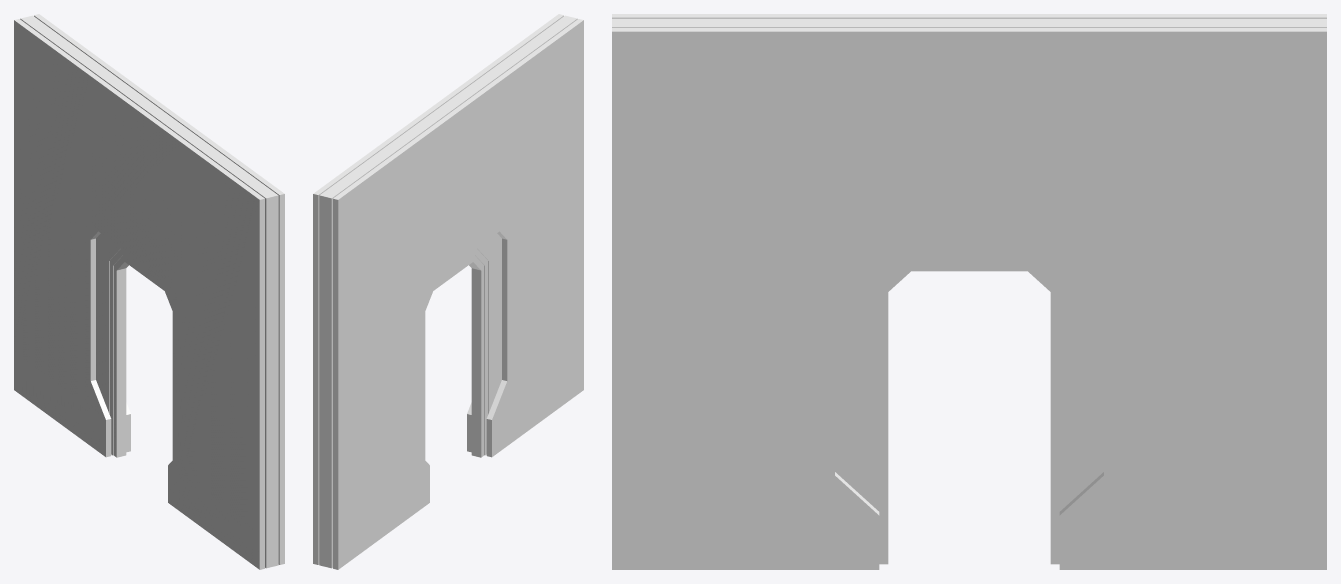
Rendered from white_door_frame.obj.
3 renders of one model, left to right at view 1: azimuth 30°, elevation 25°; view 2: azimuth 150°, elevation 25°; view 3: azimuth 270°, elevation 25°, orthographic. The views are drawn at different scales.
Parts seen in each view (by area): view 1: cube.016, cube.012, cube.010, cube.019, cube.009, cube.018, cube.014, cube.007, cube.021, cube.024, cube.020, cube.015 (+7 smaller); view 2: cube.012, cube.016, cube.010, cube.018, cube.009, cube.014, cube.019, cube.003, cube.027, cube.024, cube.015, cube.028 (+5 smaller); view 3: cube.003, cube.007, cube.000, cube.001, cube.005, cube.018, cube.019, cube.006, cube.024, cube.027, cube.021, cube.002 (+11 smaller).
Boxes of the visible parts, x1,y1,x2,y2 form: cube.016: (183,142,264,532); cube.012: (14,19,95,408); cube.010: (90,75,187,292); cube.019: (177,130,278,568); cube.009: (14,353,111,457); cube.018: (20,15,120,413); cube.014: (168,466,264,569); cube.007: (203,138,284,527); cube.021: (113,264,126,457); cube.024: (109,80,189,288); cube.020: (109,261,113,455); cube.015: (168,449,197,501); cube.012: (333,142,414,532); cube.016: (502,19,583,406); cube.010: (410,75,507,292); cube.018: (319,130,420,568); cube.009: (333,466,429,569); cube.014: (486,353,583,457); cube.019: (477,15,577,413); cube.003: (313,138,394,527); cube.027: (471,265,484,457); cube.024: (408,80,488,288); cube.015: (486,380,521,432); cube.028: (484,261,488,455); cube.003: (1104,28,1326,515); cube.007: (612,28,834,515); cube.000: (835,28,1103,249); cube.001: (1059,515,1326,569); cube.005: (612,515,879,569); cube.018: (1069,18,1326,502); cube.019: (612,18,869,502); cube.006: (793,472,879,553); cube.024: (869,18,1069,254); cube.027: (878,285,888,564); cube.021: (1050,285,1060,564); cube.002: (1062,200,1137,269).
Size of the model in its own units: 0.2579 by 3.64 by 4.38.
